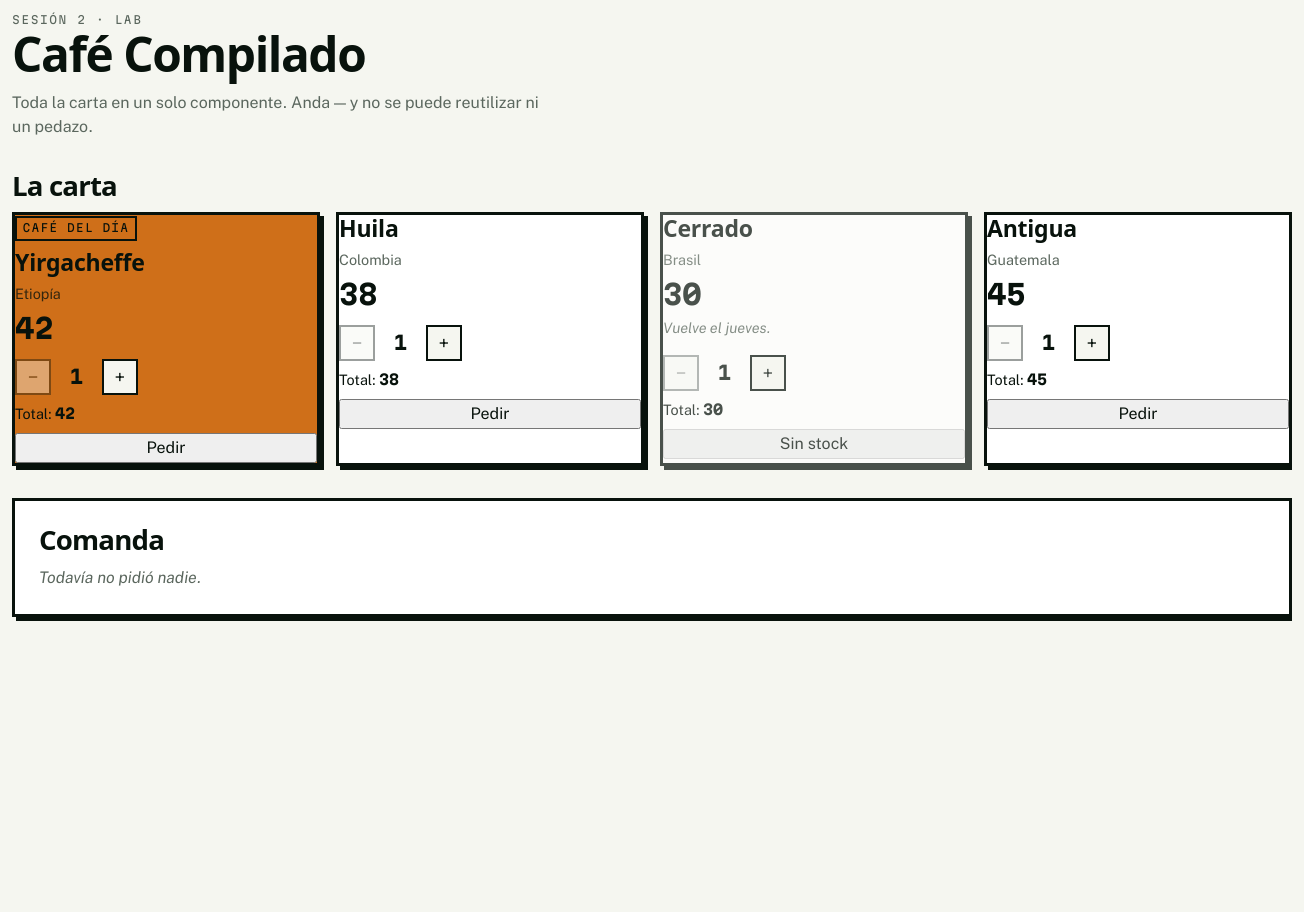
Test: S2 · la carta › la comanda arranca vacía y se llena al pedir
Click the button "Pedir" below "Etiopía" at (166, 448), box [15,433,317,463]
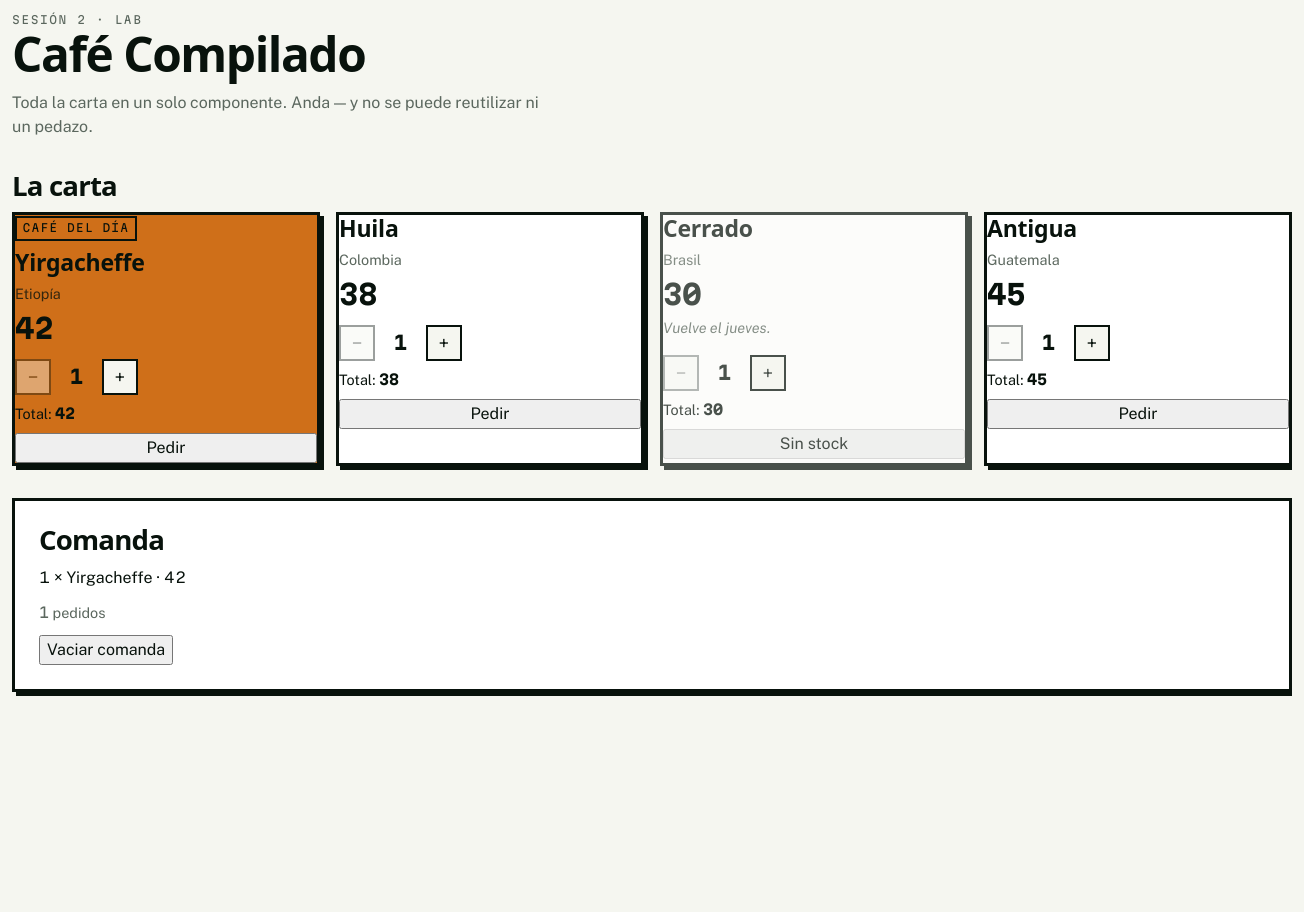
expect the text "1 × Yirgacheffe" is shown: met, box [39,568,186,587]
